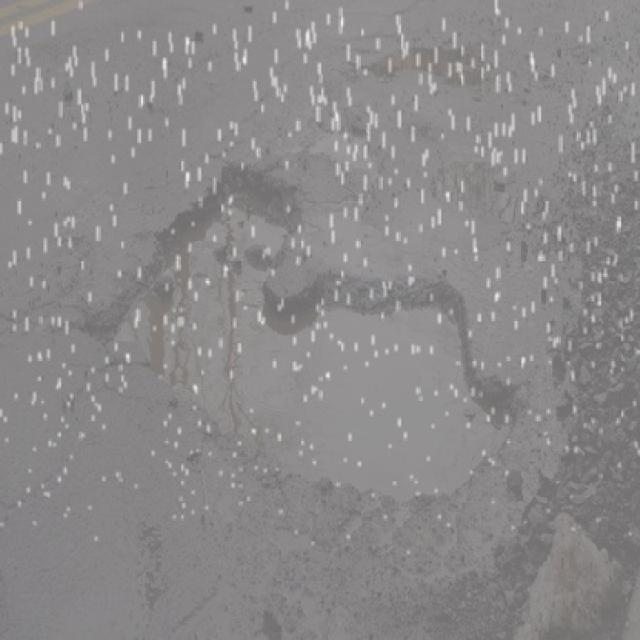Pothole: (56, 130, 535, 518)
